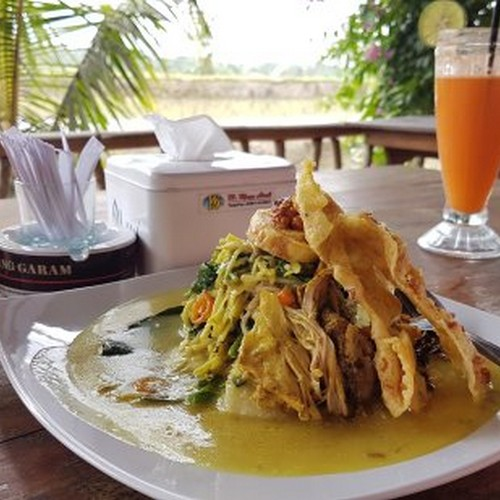tipat blayag: (198, 184, 475, 441)
